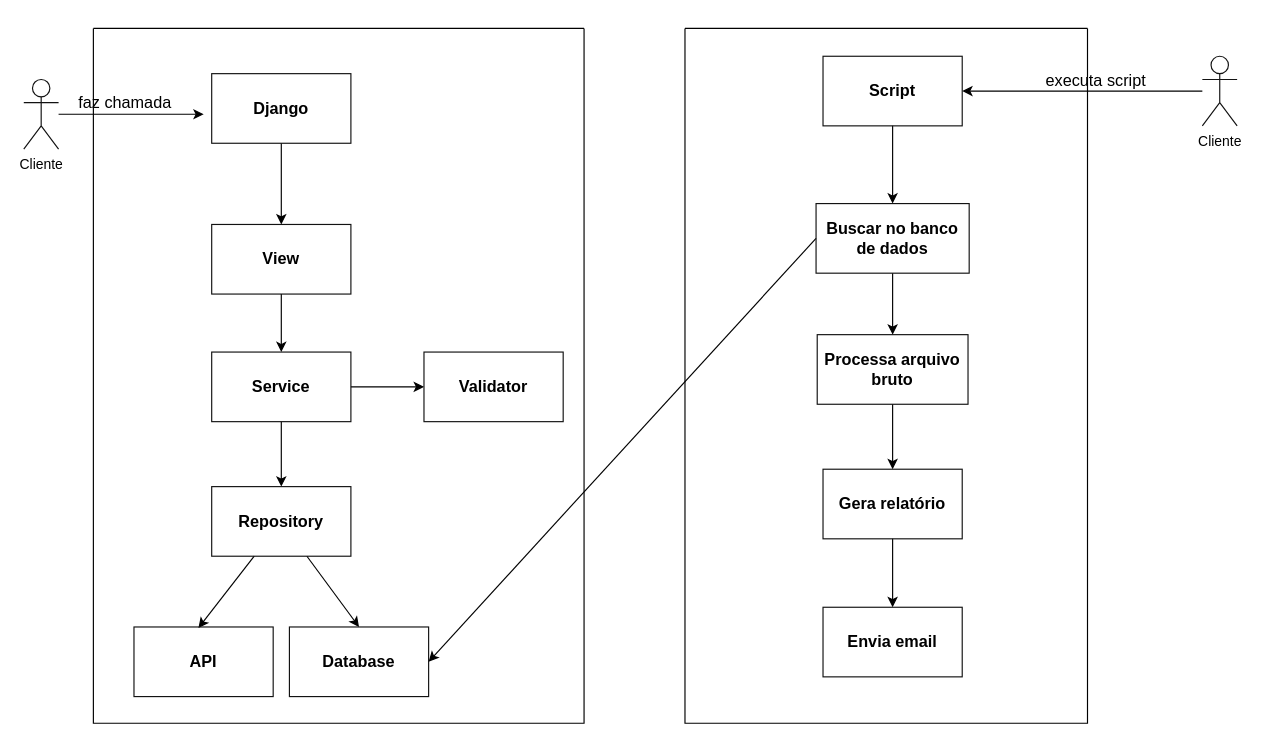
This 1261x744 diagram has some shape labels left out. The centre of each missing label's shape, as x and y in pixels:
Aplicação 1: the point at 338,375
Aplicação 2: the point at 886,375
